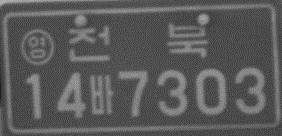0: (194, 67, 227, 117)
1: (19, 71, 48, 120)
3: (233, 66, 266, 116), (155, 68, 187, 117)
4: (56, 72, 85, 119)
7: (118, 69, 148, 117)
바: (88, 73, 114, 116)
영: (20, 28, 55, 66)
전북_D: (67, 22, 208, 64)
